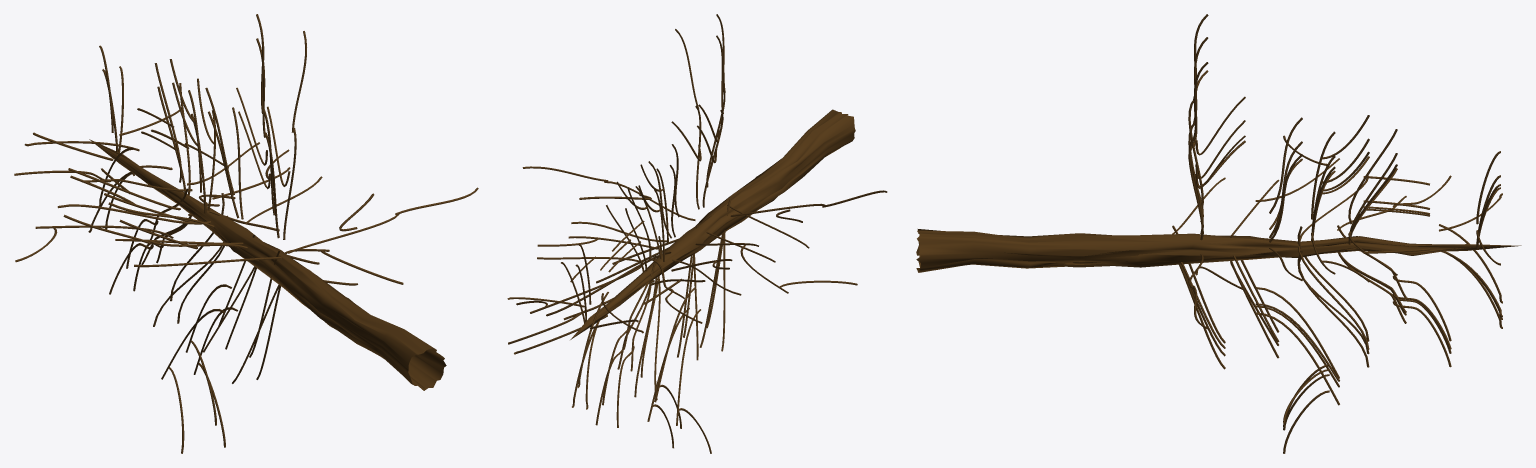
The model's file is PAINT TREE__ .fbx.
The picture shows the model from 3 angles, left to right: view 1: azimuth 30°, elevation 25°; view 2: azimuth 150°, elevation 25°; view 3: azimuth 270°, elevation 25°; orthographic projection. The views are drawn at different scales.
Visible parts, largest first — view 1: tree; view 2: tree; view 3: tree.
Boxes of the visible parts, x1,y1,x2,y2 form: tree: [14, 14, 478, 453]; tree: [507, 14, 887, 453]; tree: [916, 14, 1521, 453].
Size of the model in its own units: 2360 by 2489 by 3138.
